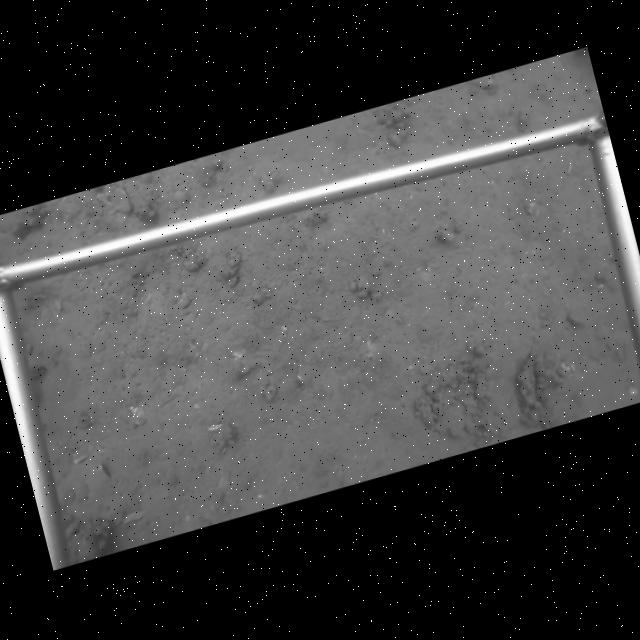Oyster-Indeterminate: (94, 185, 135, 215)
